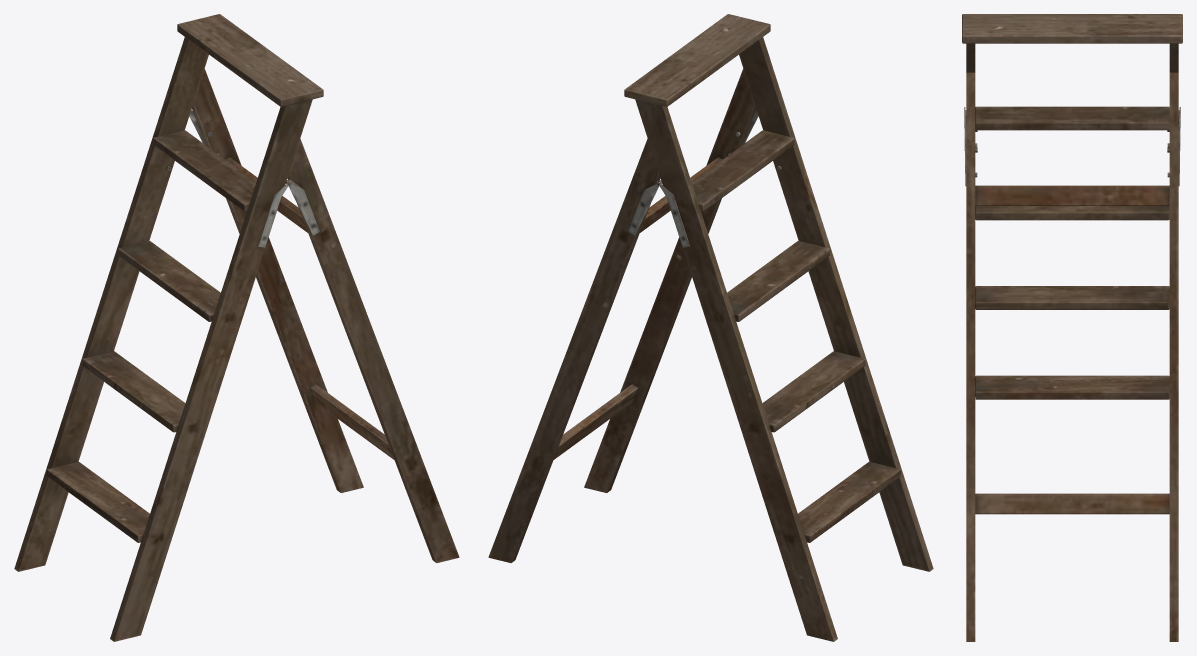
The model's file is ladder_lo.glb.
The picture shows the model from 3 angles, left to right: view 1: azimuth 30°, elevation 25°; view 2: azimuth 150°, elevation 25°; view 3: azimuth 270°, elevation 25°; orthographic projection. The views are drawn at different scales.
Visible parts, largest first — view 1: wooden_ladder_steps, wooden_ladder_supports; view 2: wooden_ladder_steps, wooden_ladder_supports; view 3: wooden_ladder_steps, wooden_ladder_supports.
Part boxes in pixels (box(x1,y1,x2,y2)): wooden_ladder_steps: box(14, 14, 323, 641); wooden_ladder_supports: box(189, 68, 459, 562); wooden_ladder_steps: box(624, 14, 933, 641); wooden_ladder_supports: box(488, 68, 758, 562); wooden_ladder_steps: box(962, 14, 1182, 399); wooden_ladder_supports: box(964, 72, 1180, 641).
Bounding box in the file's own units: 0.9591 × 1.33 × 0.5.
1 material, 1 textured.
